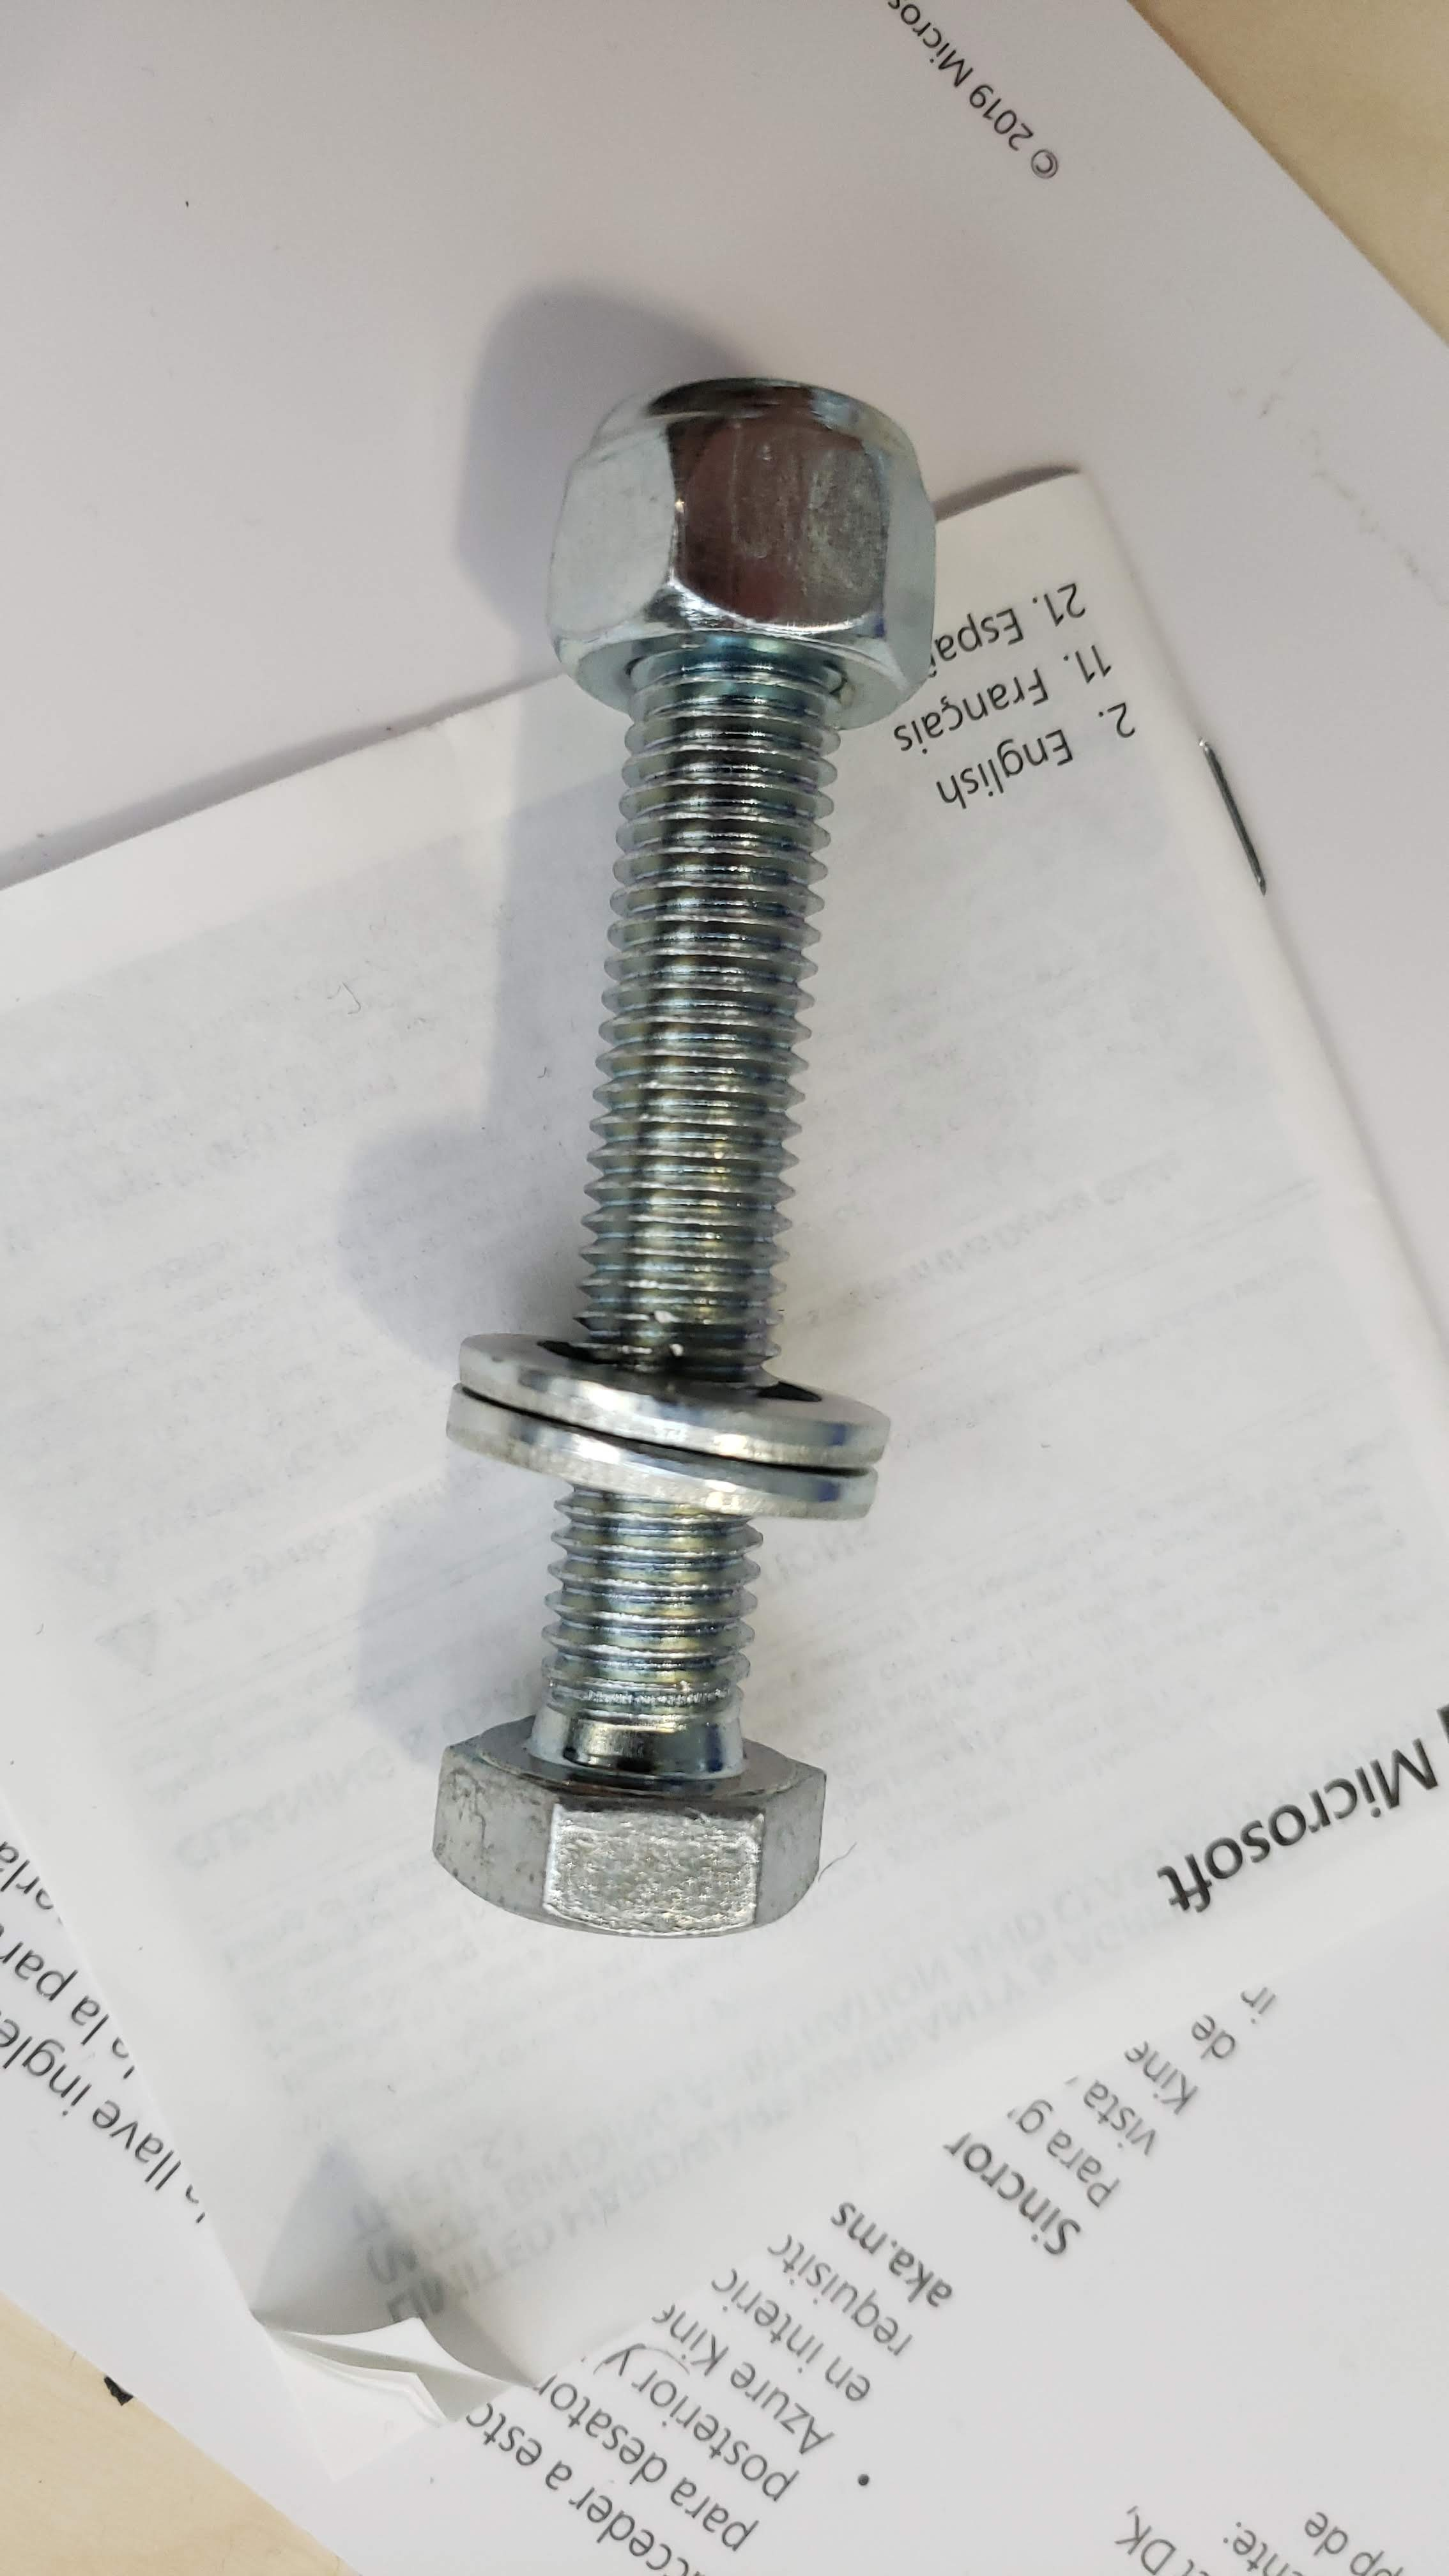FinishedAssembly: (343, 288, 1079, 2199)
